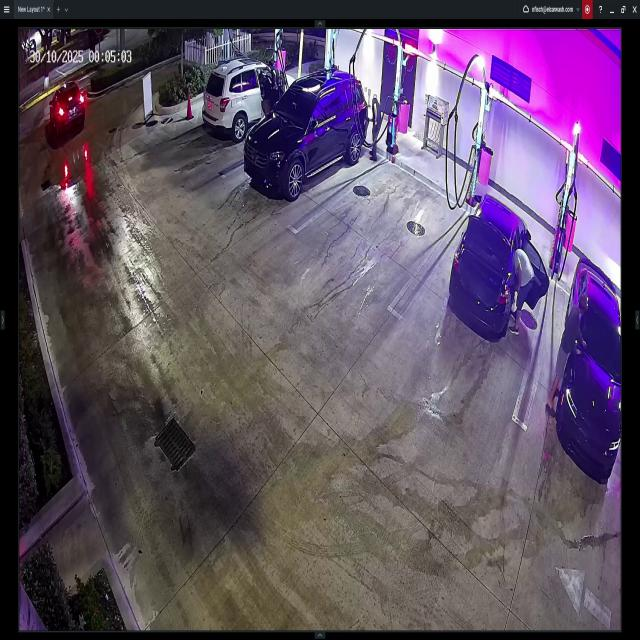Car: (248, 71, 370, 196), (450, 193, 549, 337), (562, 259, 625, 483), (203, 62, 298, 138), (45, 86, 87, 134)
